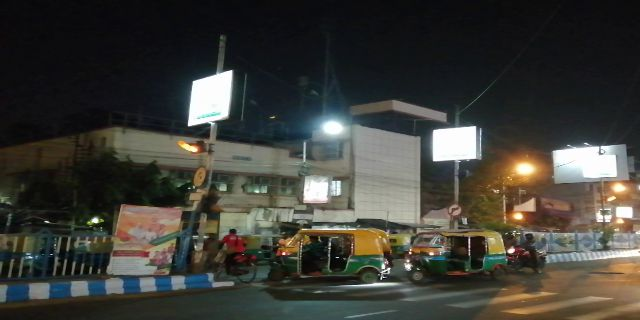Autorickshaw: (274, 226, 388, 283), (407, 229, 504, 281)
